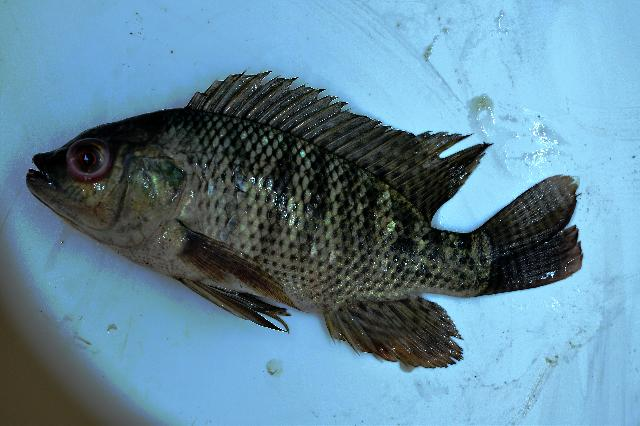Columnaris Disease: (26, 72, 582, 368), (281, 322, 289, 331)
